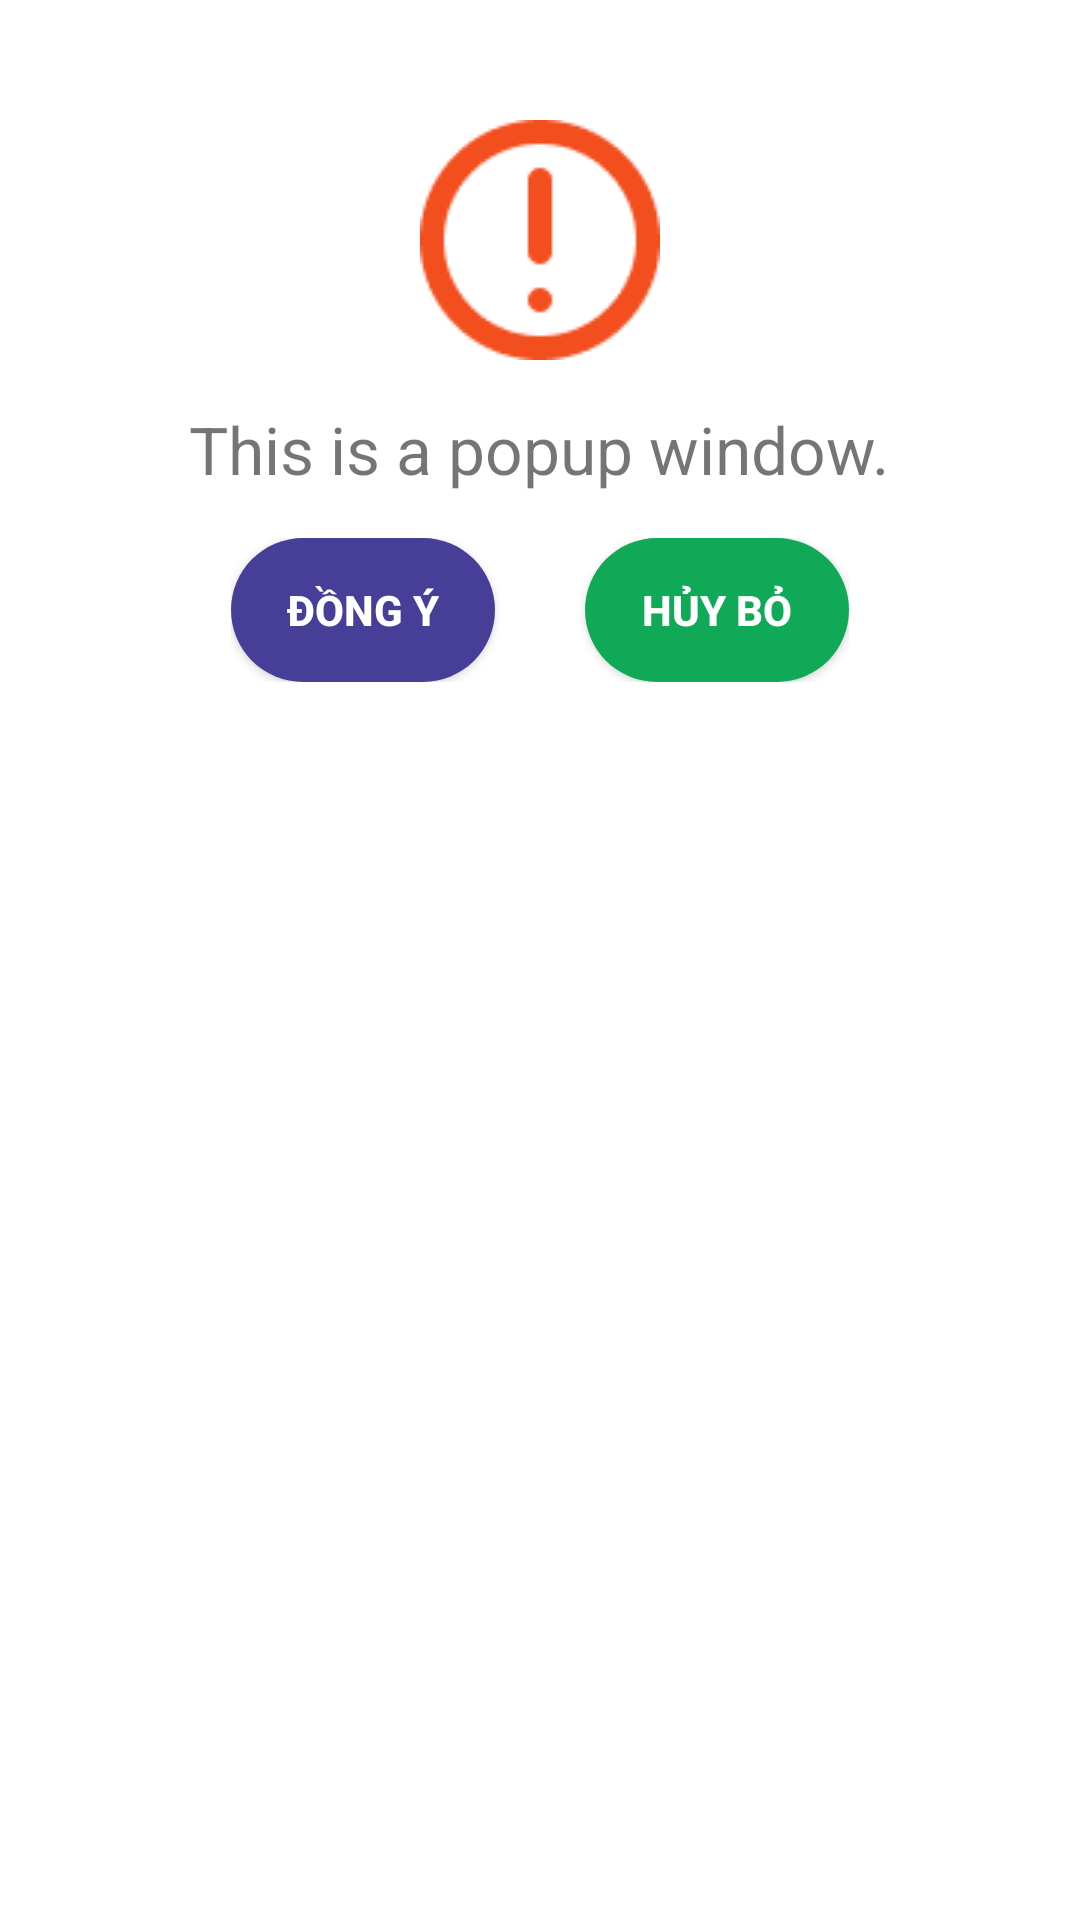

Screen size 1080w x 1920h. Icon name, then its box in pixels as [x1, y1, x2, y2]:
info: [420, 120, 660, 360]
